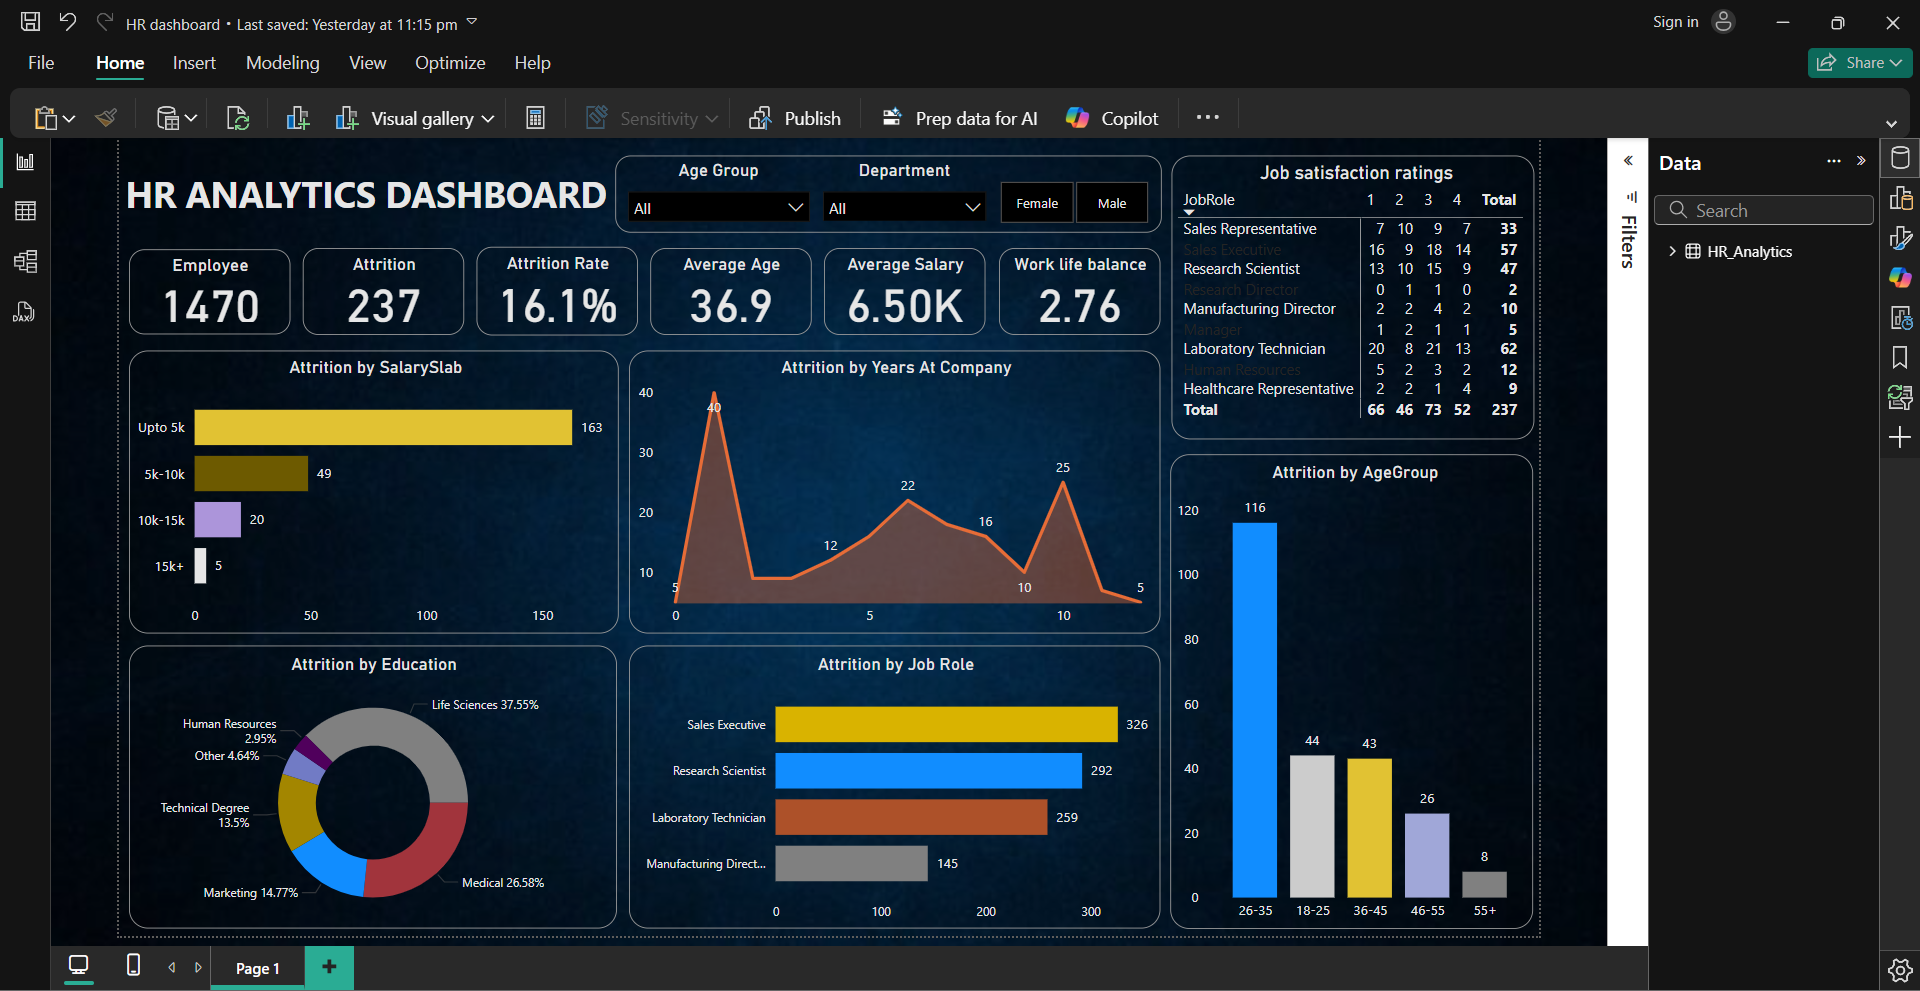

The dashboard page shown, as its layout file describes it:
{"tool":"powerbi","page":{"name":"Page 1","canvas":[1280,720],"ordinal":0},"visuals":[{"type":"shape","box":[447.8,16.2,492.6,69.7],"z":0},{"type":"card","title":"Employee","fields":{"Values":["Sum(HR_Analytics.EmployeeCount)"]},"box":[8.7,100.8,145.5,77.1],"z":1000},{"type":"card","title":"Attrition","fields":{"Values":["Sum(HR_Analytics.Attrition count)"]},"box":[165.4,99.5,145.5,78.4],"z":2000},{"type":"card","title":"Attrition Rate","fields":{"Values":["HR_Analytics.Attrition_Rate"]},"box":[322.2,98.3,145.5,79.6],"z":3000},{"type":"card","title":"Average Age","fields":{"Values":["Avg(HR_Analytics.Age)"]},"box":[478.9,99.5,145.5,78.4],"z":4000},{"type":"card","title":"Average Salary","fields":{"Values":["Avg(HR_Analytics.MonthlyIncome)"]},"box":[635.7,99.5,145.5,78.4],"z":5000},{"type":"card","title":"Work life balance","fields":{"Values":["Avg(HR_Analytics.WorkLifeBalance)"]},"box":[793.6,99.5,145.5,78.4],"z":6000},{"type":"donutChart","title":"Attrition by Education","fields":{"Y":["Sum(HR_Analytics.Attrition count)"],"Category":["HR_Analytics.EducationField"]},"box":[8.7,457.8,440.4,255],"z":7000},{"type":"columnChart","title":"Attrition by AgeGroup","fields":{"Category":["HR_Analytics.AgeGroup"],"Y":["Sum(HR_Analytics.Attrition count)"]},"box":[947.9,284.9,327.2,427.9],"z":8000},{"type":"clusteredBarChart","title":"Attrition by SalarySlab","fields":{"Y":["Sum(HR_Analytics.Attrition count)"],"Category":["HR_Analytics.SalarySlab"]},"box":[8.7,191.6,441.6,255],"z":9000},{"type":"barChart","title":"Attrition by Job Role","fields":{"Y":["CountNonNull(HR_Analytics.Attrition count)"],"Category":["HR_Analytics.JobRole"]},"box":[460.3,457.8,478.9,255],"z":10000},{"type":"areaChart","title":"Attrition by Years At Company","fields":{"Y":["Sum(HR_Analytics.Attrition count)"],"Category":["HR_Analytics.TotalWorkingYears"]},"box":[460.3,191.6,478.9,255],"z":11000},{"type":"textbox","box":[0,23.1,445.3,73.4],"z":12000},{"type":"slicer","title":"Department","fields":{"Values":["HR_Analytics.Department"]},"box":[624.9,20.6,167.9,54.7],"z":13000},{"type":"slicer","fields":{"Values":["HR_Analytics.Gender"]},"box":[774.1,36.8,172.9,41.1],"z":14000},{"type":"slicer","title":"Age Group","fields":{"Values":["HR_Analytics.AgeGroup"]},"box":[448.2,20.6,184.1,61],"z":15000},{"type":"pivotTable","title":"Job satisfaction ratings","fields":{"Values":["Sum(HR_Analytics.Attrition count)"],"Rows":["HR_Analytics.JobRole"],"Columns":["HR_Analytics.JobSatisfaction"]},"box":[949.1,16.2,327.2,256.3],"z":16001}]}

Visuals, with their boxes on the page's 1280x720 design canvas (x1, y1, x2, y2). These are canvas units, not pixel positions in the 1920x991 screenshot, which may show the page scaled, cropped or inside an application window:
shape: locate(448, 16, 940, 86)
"Employee" card: locate(9, 101, 154, 178)
"Attrition" card: locate(165, 100, 311, 178)
"Attrition Rate" card: locate(322, 98, 468, 178)
"Average Age" card: locate(479, 100, 624, 178)
"Average Salary" card: locate(636, 100, 781, 178)
"Work life balance" card: locate(794, 100, 939, 178)
"Attrition by Education" donutChart: locate(9, 458, 449, 713)
"Attrition by AgeGroup" columnChart: locate(948, 285, 1275, 713)
"Attrition by SalarySlab" clusteredBarChart: locate(9, 192, 450, 447)
"Attrition by Job Role" barChart: locate(460, 458, 939, 713)
"Attrition by Years At Company" areaChart: locate(460, 192, 939, 447)
textbox: locate(0, 23, 445, 96)
"Department" slicer: locate(625, 21, 793, 75)
slicer - HR_Analytics.Gender: locate(774, 37, 947, 78)
"Age Group" slicer: locate(448, 21, 632, 82)
"Job satisfaction ratings" pivotTable: locate(949, 16, 1276, 272)
